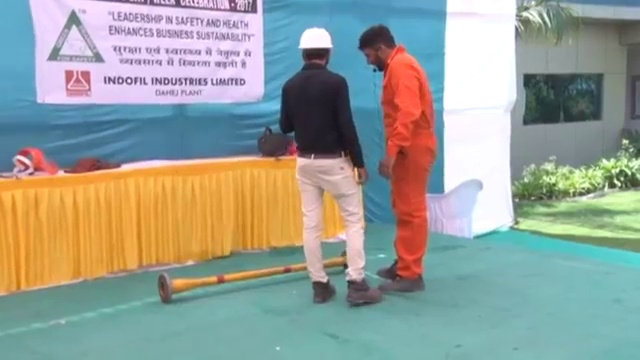helmet: (294, 25, 335, 53)
helmet_off: (359, 24, 398, 74)
helmet_on: (292, 23, 336, 71)
person: (276, 24, 381, 307), (359, 23, 438, 291)
